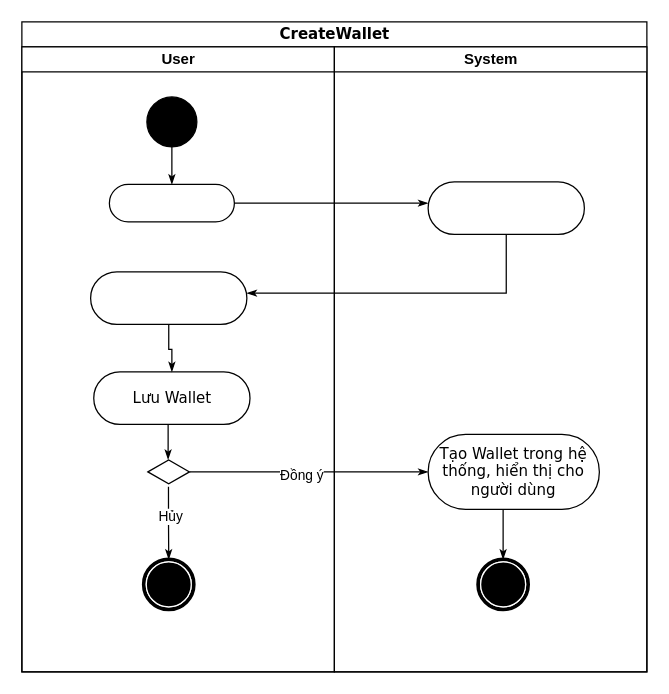
Some shapes in this 669 by 694 pixel diagram are drawn without their labels. Here are the shapes that lost their labels. From the top down, the centre of each, then its label:
(x=171, y=202): Action
(x=505, y=207): Hiển thị màn hình Tạo Wallet
(x=168, y=297): Điền số tiền hiện có, logo, color,...
